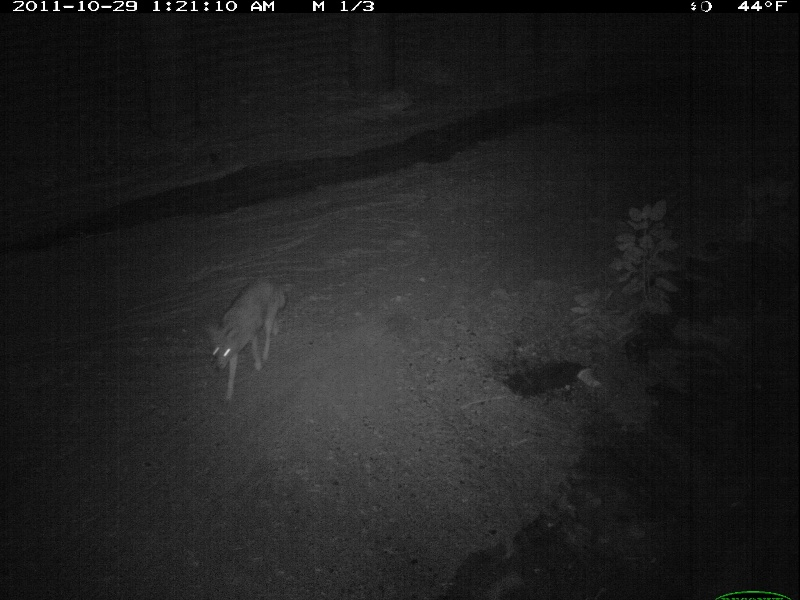coyote: (208, 269, 290, 405)
